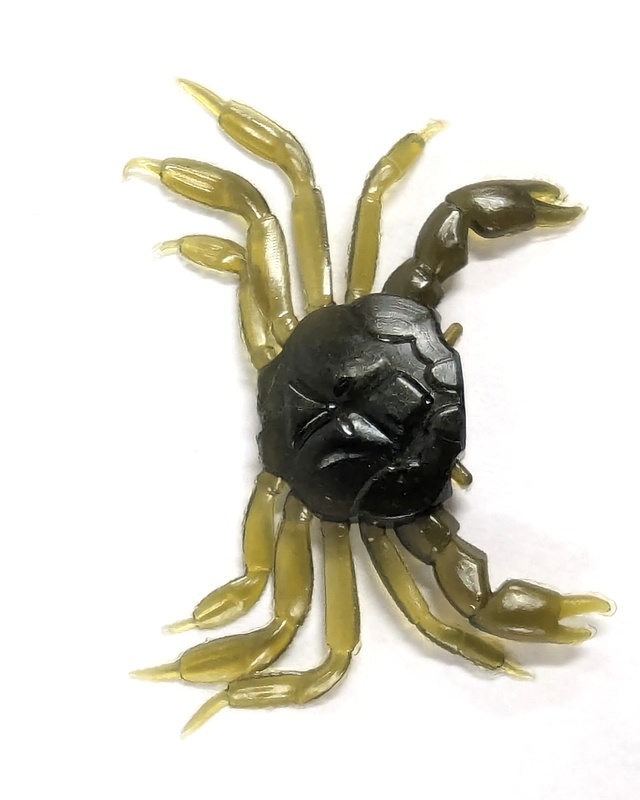crab2: (121, 73, 618, 735)
